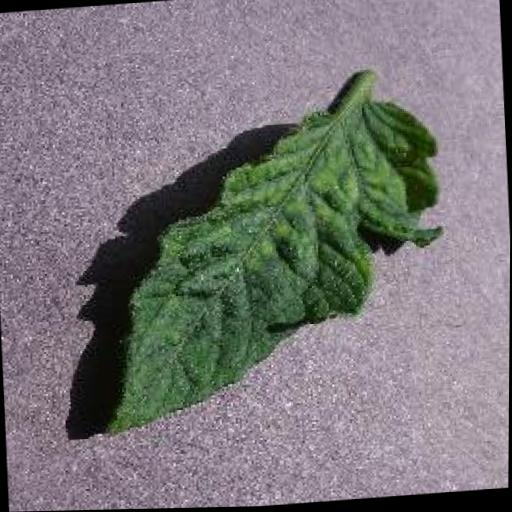Mosaic Virus: (88, 92, 459, 443)
